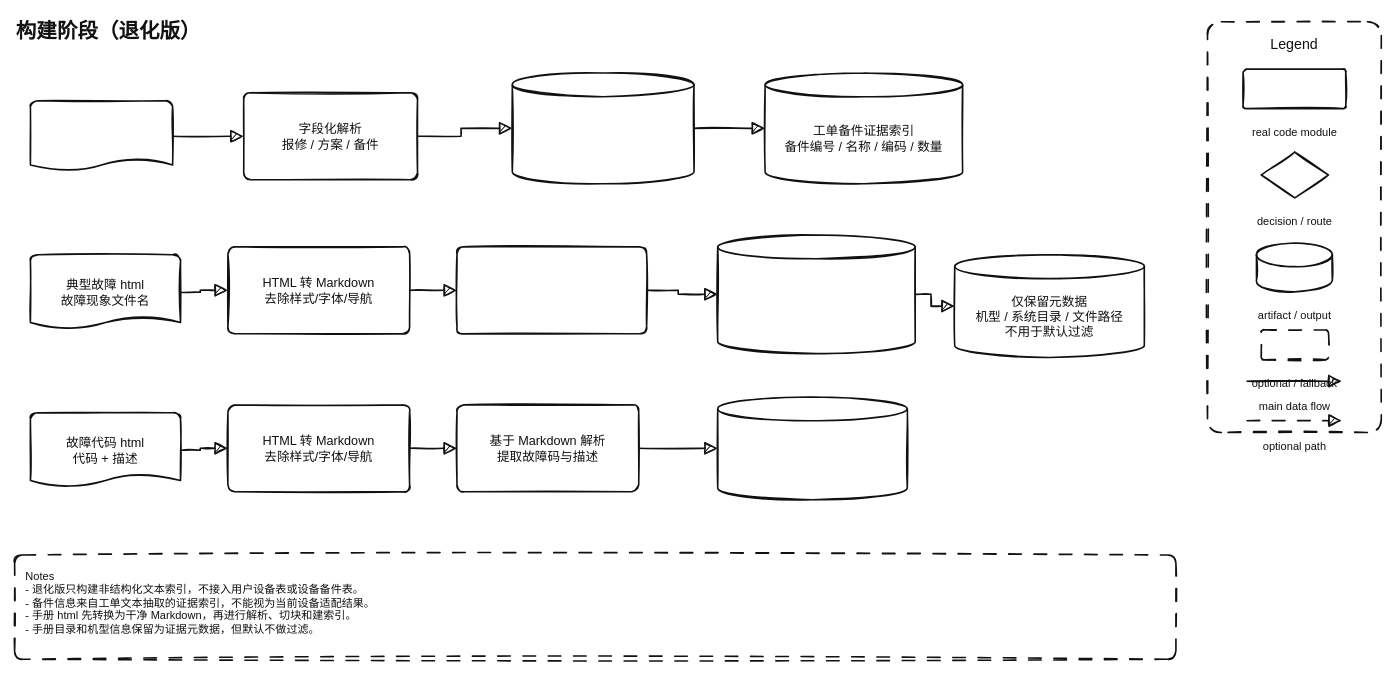
Image size: 1395x673. Some labels were removed from this diagram. The centre of each missing label's shape, as x and y in pixels:
"典型故障索引 fault_title file_name chunk_text system_dir" belongs at (x=816, y=294).
"基于 Markdown 解析 保留目录与文件名" belongs at (x=551, y=290).
"工单 txt 784 个短文档" belongs at (x=101, y=136).
"工单索引 reported_issue solution parts raw_text" belongs at (x=602, y=128).
"故障代码索引 fault_code description chunk_text" belongs at (x=812, y=448).
